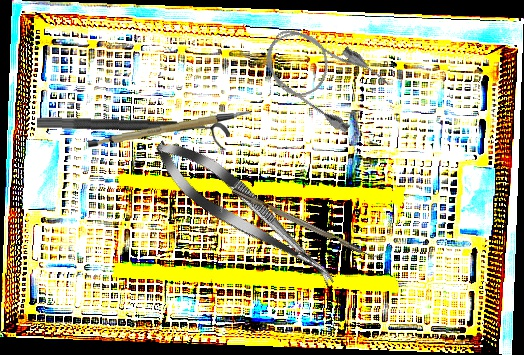Cannula: (252, 10, 393, 139)
Chopper: (231, 180, 385, 265)
Fixation Ring: (36, 115, 231, 152)
Micro Scissor: (144, 127, 348, 300)
Scalpel Handle: (86, 109, 254, 151)
